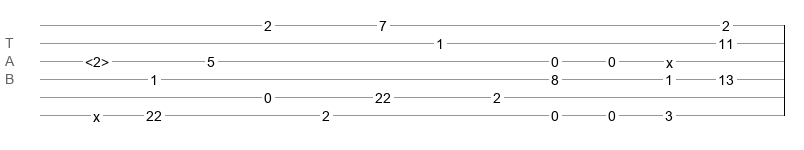0: (264, 90, 272, 100), (551, 108, 559, 118), (551, 54, 559, 64), (608, 54, 616, 64), (608, 108, 616, 118)
1: (150, 72, 158, 82), (436, 36, 444, 46), (665, 72, 673, 82)
11: (718, 36, 734, 46)
13: (718, 72, 734, 82)
2: (264, 18, 272, 28), (322, 108, 330, 118), (493, 90, 501, 100), (722, 18, 730, 28)
22: (146, 108, 162, 118), (375, 90, 391, 100)
3: (665, 108, 673, 118)
5: (207, 54, 215, 64)
7: (379, 18, 387, 28)
8: (551, 72, 559, 82)
harmonic: (85, 54, 109, 64)
x: (93, 109, 100, 117), (666, 55, 673, 63)
